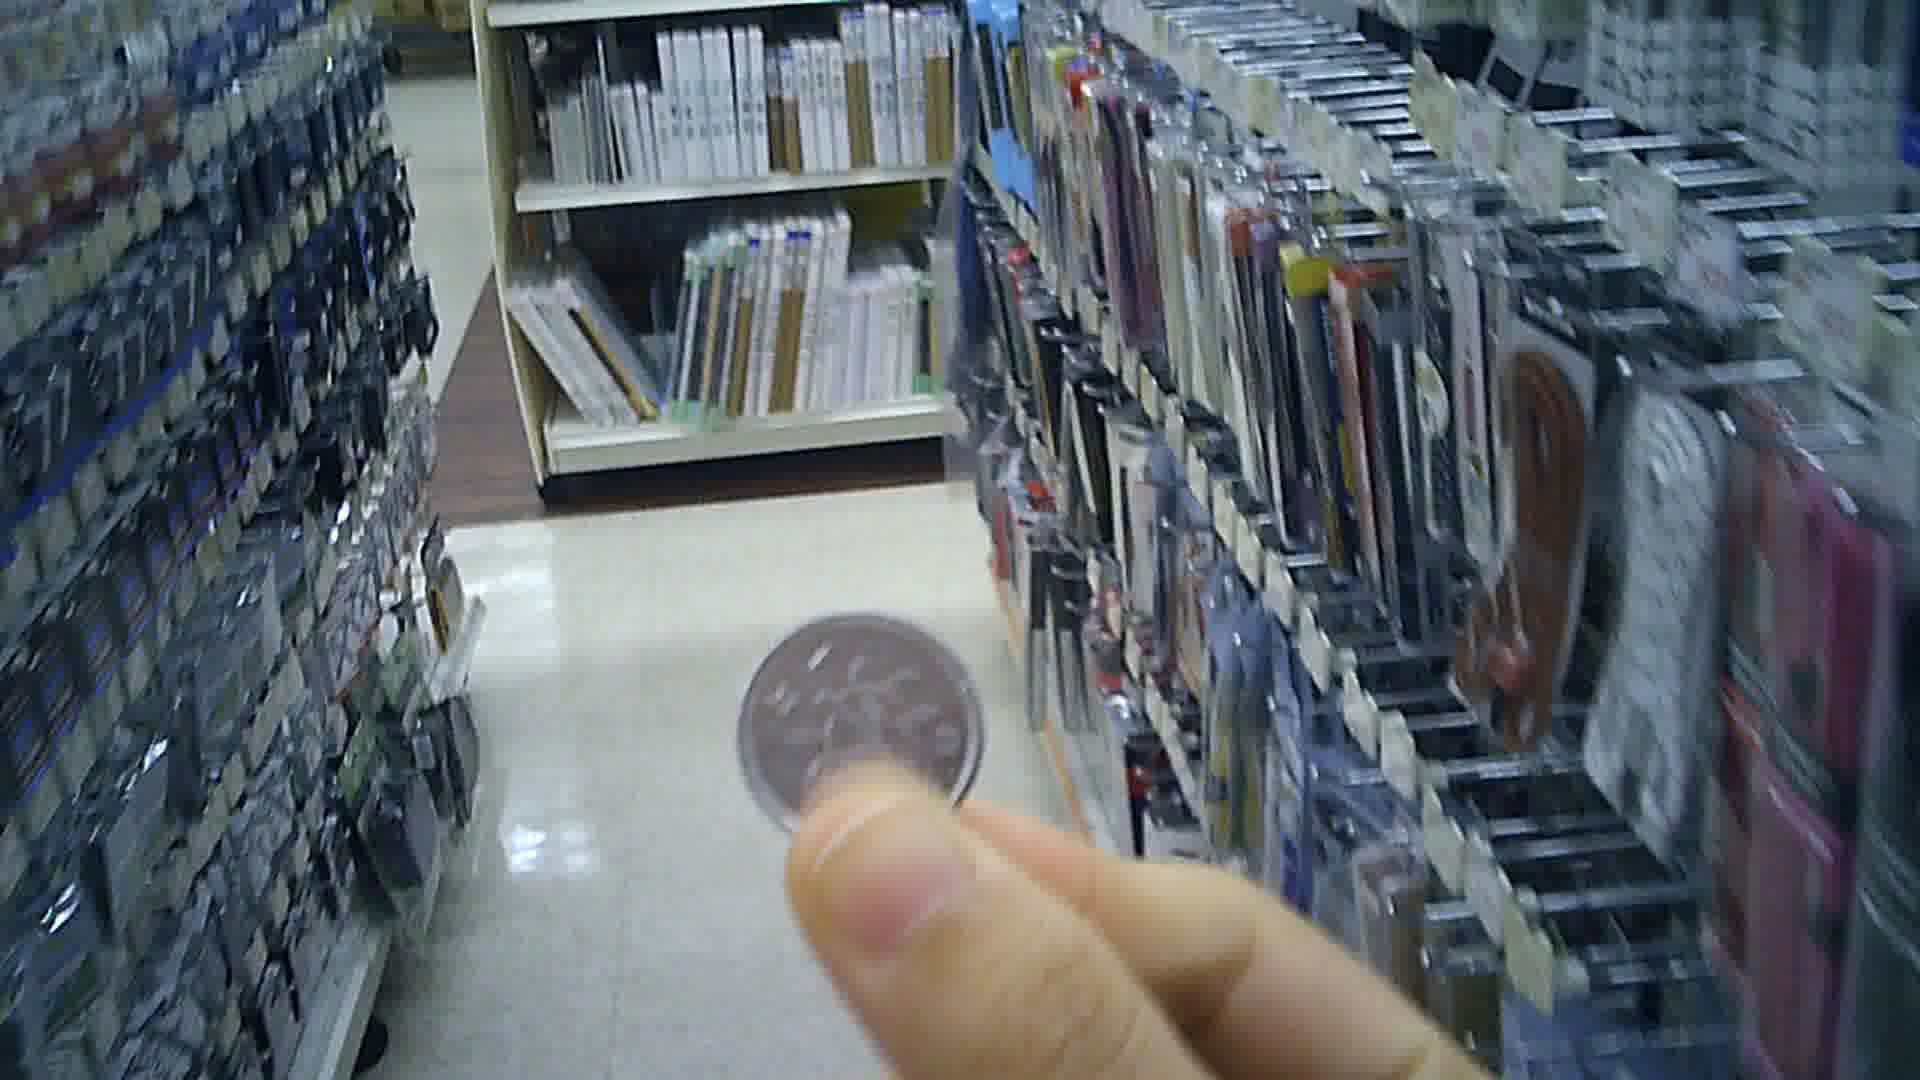1 Yen: (721, 608, 992, 858)
